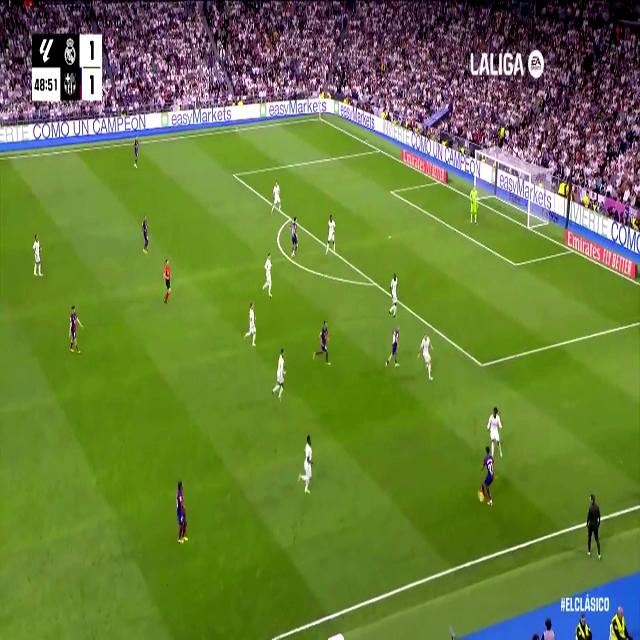bigarea_bottom_inner: (477, 353, 487, 375)
bigarea_top_inner: (232, 169, 236, 180)
bottom_arc_area_intersection: (371, 274, 379, 291)
corner: (316, 114, 323, 122)
smallarea_top_inner: (389, 186, 394, 196)
top_arc_area_intersection: (288, 213, 292, 223)
